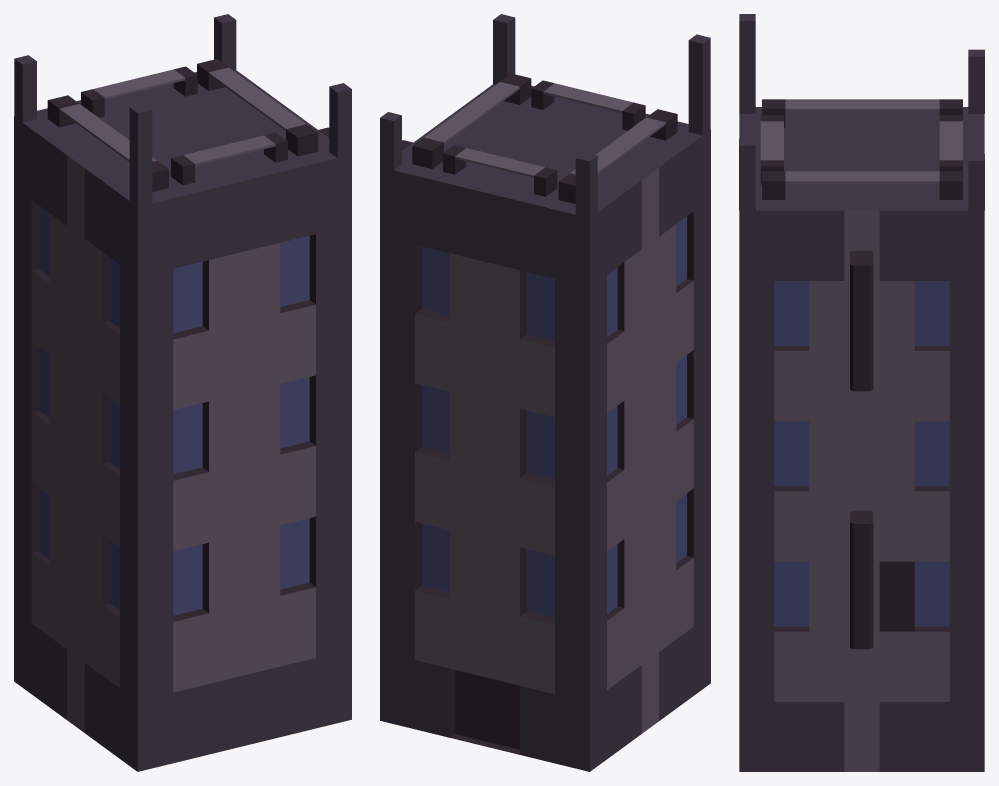
File: Tower-2-1.fbx
The picture shows the model from 3 angles, left to right: view 1: azimuth 30°, elevation 25°; view 2: azimuth 150°, elevation 25°; view 3: azimuth 270°, elevation 25°; orthographic projection. The views are drawn at different scales.
Visible parts, largest first — view 1: Tower-2-1.001; view 2: Tower-2-1.001; view 3: Tower-2-1.001.
Boxes of the visible parts, left/top/right/bottom form: Tower-2-1.001: left=14, top=14, right=351, bottom=771; Tower-2-1.001: left=380, top=14, right=710, bottom=771; Tower-2-1.001: left=739, top=14, right=984, bottom=771.
Bounding box in the file's own units: 71.78 × 174 × 59.05.
